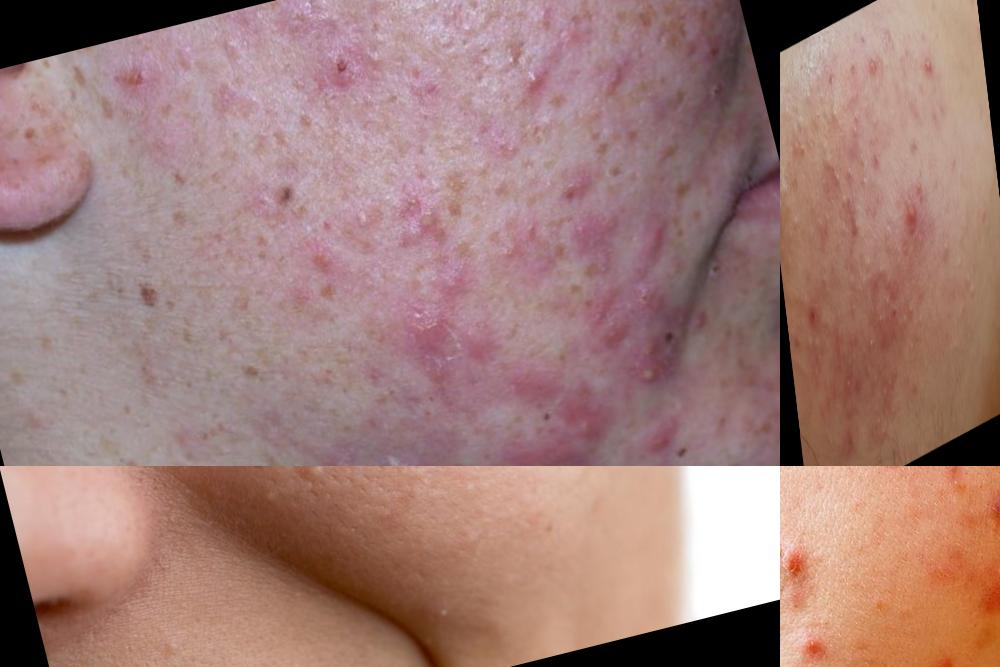milium: (230, 467, 362, 513), (429, 597, 460, 635)
papular: (381, 180, 465, 269), (554, 200, 634, 282), (323, 31, 388, 124), (393, 299, 471, 372), (559, 375, 630, 447), (637, 402, 713, 464), (490, 350, 562, 414), (586, 38, 651, 105), (616, 270, 689, 328), (623, 199, 684, 268), (897, 191, 927, 246), (847, 208, 872, 247)
purulent: (784, 614, 867, 667), (781, 538, 840, 607), (921, 49, 941, 96)
sebo-crystan-conglo: (614, 331, 697, 401), (503, 441, 584, 467), (987, 478, 1000, 542)
whitehead: (505, 47, 561, 106), (785, 87, 822, 168), (875, 405, 898, 459), (826, 92, 848, 141), (963, 269, 983, 309), (806, 328, 822, 377), (828, 160, 845, 199), (865, 47, 883, 82), (859, 155, 873, 198), (881, 21, 896, 57), (802, 74, 817, 109), (864, 328, 880, 360), (862, 351, 875, 388), (820, 273, 835, 305), (870, 364, 885, 395), (858, 268, 877, 292), (789, 213, 802, 245), (849, 112, 862, 143), (939, 236, 952, 267), (876, 259, 891, 285), (845, 163, 857, 191), (843, 375, 855, 401), (906, 333, 919, 356), (849, 298, 861, 322), (871, 109, 881, 134), (883, 287, 893, 310), (810, 224, 818, 251), (917, 309, 925, 335), (908, 300, 916, 321)
